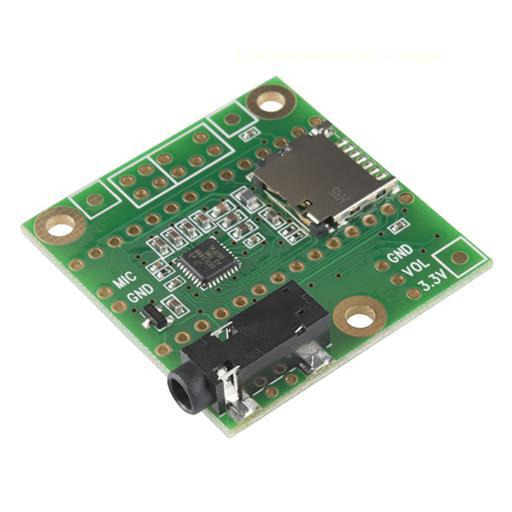Baskerville: (234, 49, 444, 65)
